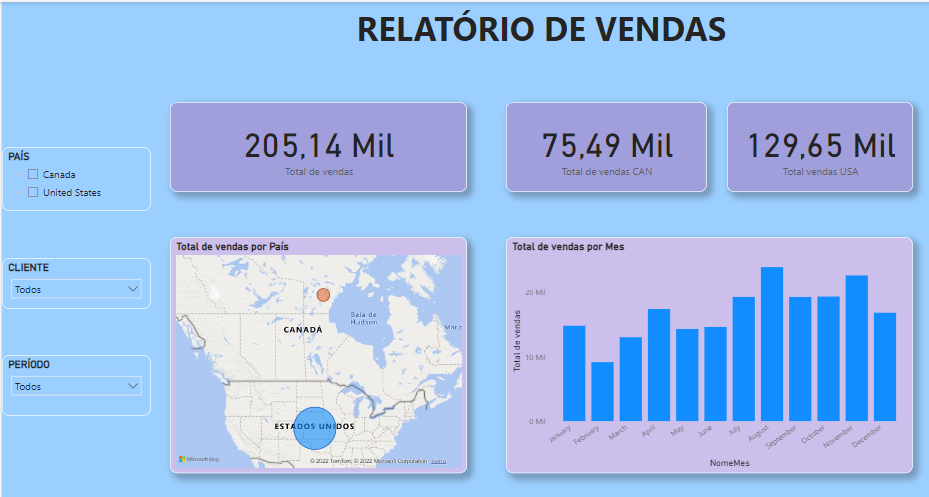

This screenshot's page, from the dashboard's own definition file:
{"tool":"powerbi","page":{"name":"Página 1","canvas":[1500,800],"ordinal":0},"visuals":[{"type":"card","fields":{"Values":["_Medidas.Total de vendas"]},"box":[271,161.3,479,145.2],"z":0},{"type":"card","fields":{"Values":["_Medidas.Total vendas USA"]},"box":[1169.4,161.3,300,145.2],"z":1000},{"type":"card","fields":{"Values":["_Medidas.Total de vendas CAN"]},"box":[812.9,161.3,324.2,145.2],"z":2000},{"type":"map","title":"Total de vendas por País","fields":{"Size":["_Medidas.Total de vendas"],"Category":["Clientes.PAIS"]},"box":[271,379,479,380.6],"z":2001},{"type":"columnChart","title":"Total de vendas por Mes","fields":{"Y":["_Medidas.Total de vendas"],"Category":["Calendario.NomeMes"]},"box":[812.9,379,656.5,380.6],"z":2002},{"type":"slicer","title":"PAÍS","fields":{"Values":["Clientes.PAIS","Clientes.NOME"]},"box":[0,233.9,240.3,103.2],"z":2003},{"type":"slicer","title":"CLIENTE","fields":{"Values":["Clientes.NOME"]},"box":[0,412.9,240.3,82.3],"z":2004},{"type":"textbox","box":[271,0,1198.4,150],"z":2006},{"type":"slicer","title":"PERÍODO","fields":{"Values":["Calendario.Ano","Calendario.NomeMes"]},"box":[0,569.4,240.3,98.4],"z":2007},{"type":"actionButton","box":[0,0,1500,150],"z":2008}]}

Visuals, with their boxes in screenshot pixels (x1, y1, x2, y2), scaled from the page's 1500x800 canvas onto the 929x497 screenshot:
card - _Medidas.Total de vendas: locate(168, 100, 464, 190)
card - _Medidas.Total vendas USA: locate(724, 100, 910, 190)
card - _Medidas.Total de vendas CAN: locate(503, 100, 704, 190)
"Total de vendas por País" map: locate(168, 235, 464, 472)
"Total de vendas por Mes" columnChart: locate(503, 235, 910, 472)
"PAÍS" slicer: locate(0, 145, 149, 209)
"CLIENTE" slicer: locate(0, 257, 149, 308)
textbox: locate(168, 0, 910, 93)
"PERÍODO" slicer: locate(0, 354, 149, 415)
actionButton: locate(0, 0, 928, 93)
